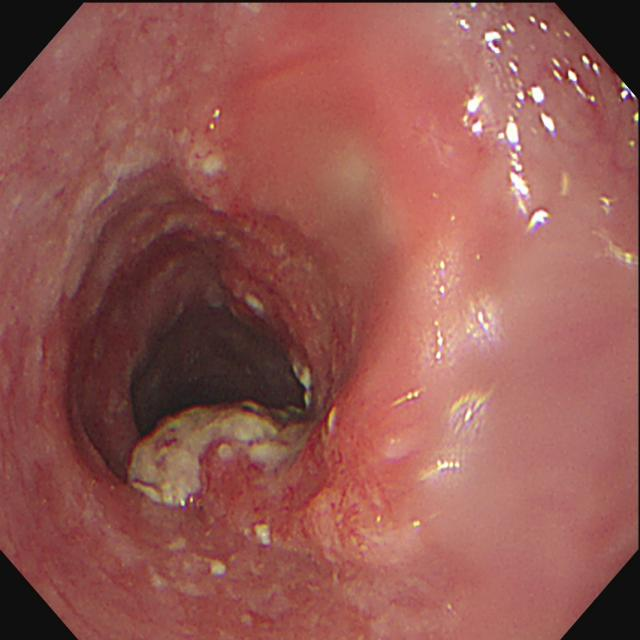B: (187, 139, 383, 401), (124, 400, 387, 593)
U: (499, 116, 531, 215), (511, 62, 546, 109), (462, 92, 486, 139), (529, 209, 553, 232), (484, 30, 504, 55), (543, 114, 558, 136)
